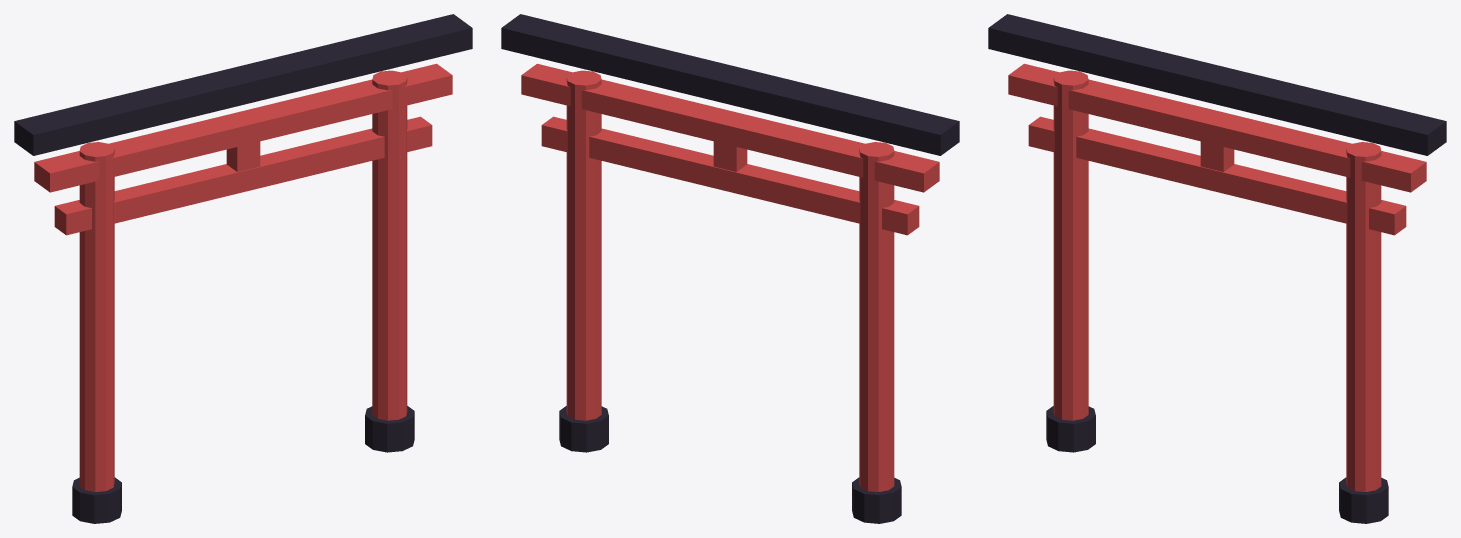
File: torii.glb
The picture shows the model from 3 angles, left to right: view 1: azimuth 30°, elevation 25°; view 2: azimuth 150°, elevation 25°; view 3: azimuth 330°, elevation 25°; orthographic projection.
Visible parts, largest first — view 1: torii; view 2: torii; view 3: torii.
Boxes of the visible parts, left/top/right/bottom form: torii: left=14, top=14, right=472, bottom=523; torii: left=501, top=14, right=959, bottom=523; torii: left=988, top=14, right=1446, bottom=523.
Size of the model in its own units: 4.8 by 4.21 by 0.48.
